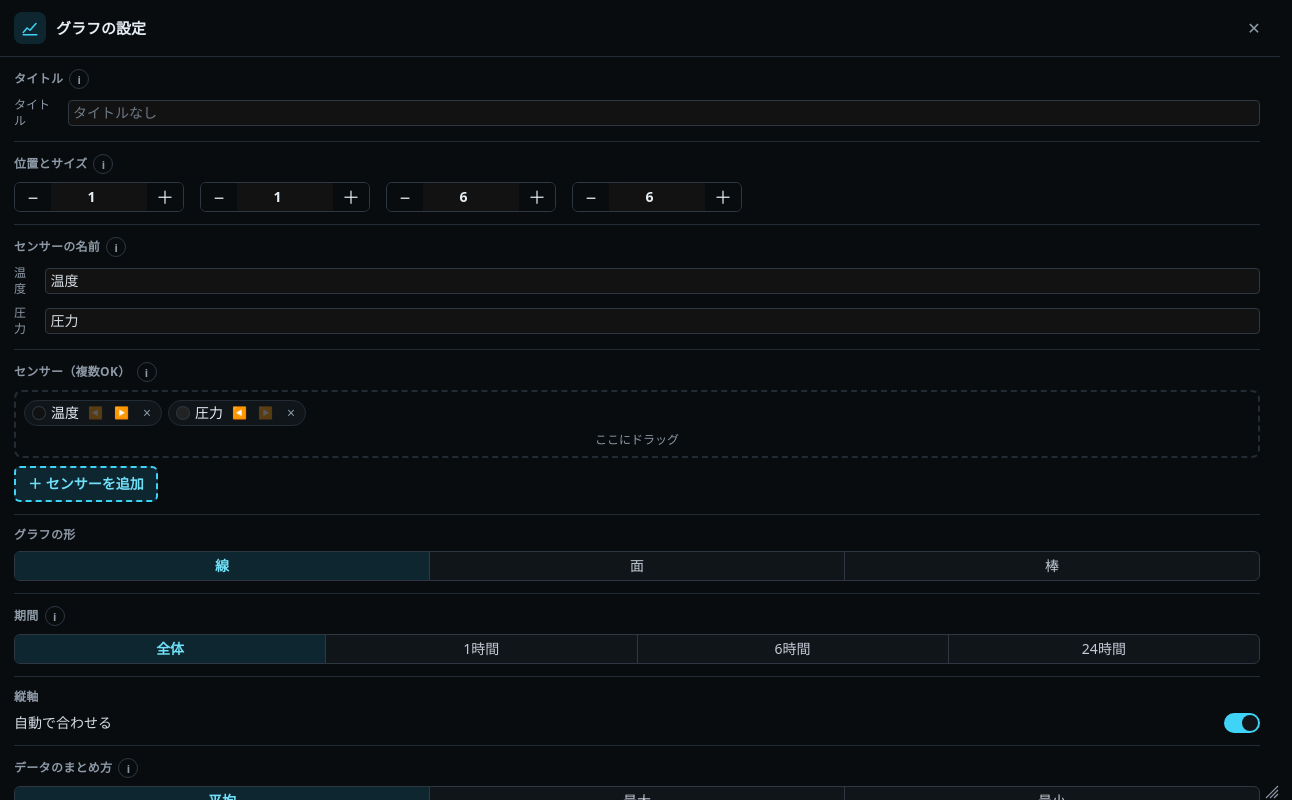
it: WidgetSettings: グラフ › Esc で閉じ、フォーカスは開いたボタンに戻る。ボタンにフォーカスがあるときの Esc でも閉じる
This screenshot has width=1292, height=800.
Click the button "＋ センサーを追加": click(86, 484) [14,466,158,502]
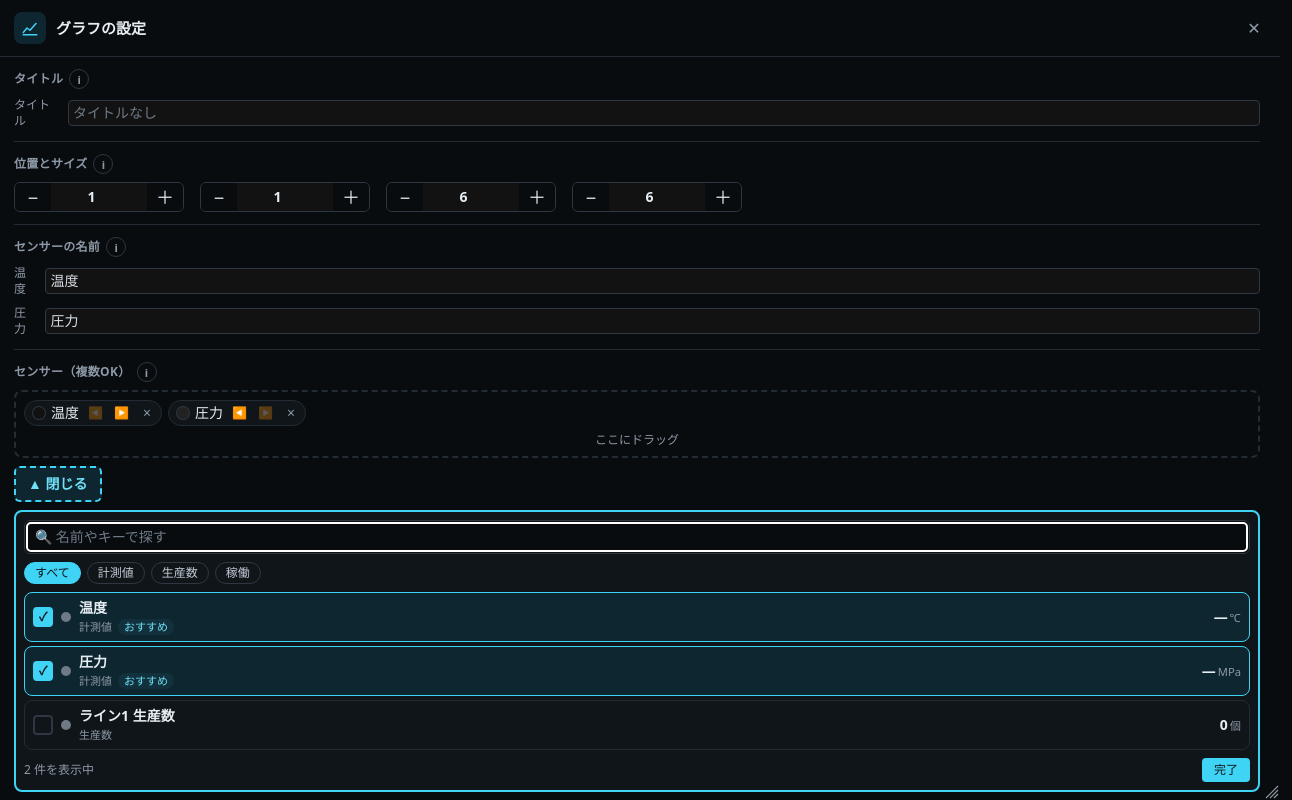
Press Escape
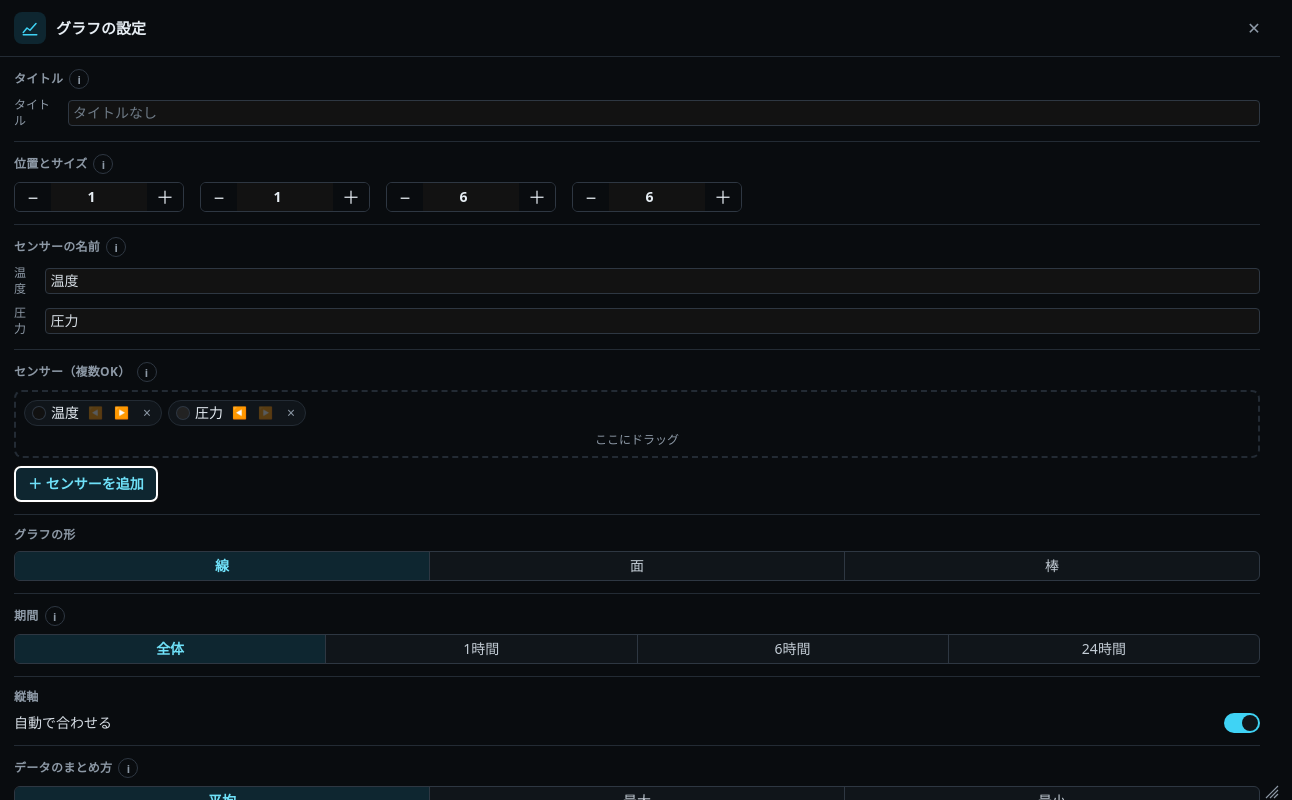
Now the element "センサーを選ぶ" is gone
Click the button "＋ センサーを追加": click(86, 484) [14,466,158,502]
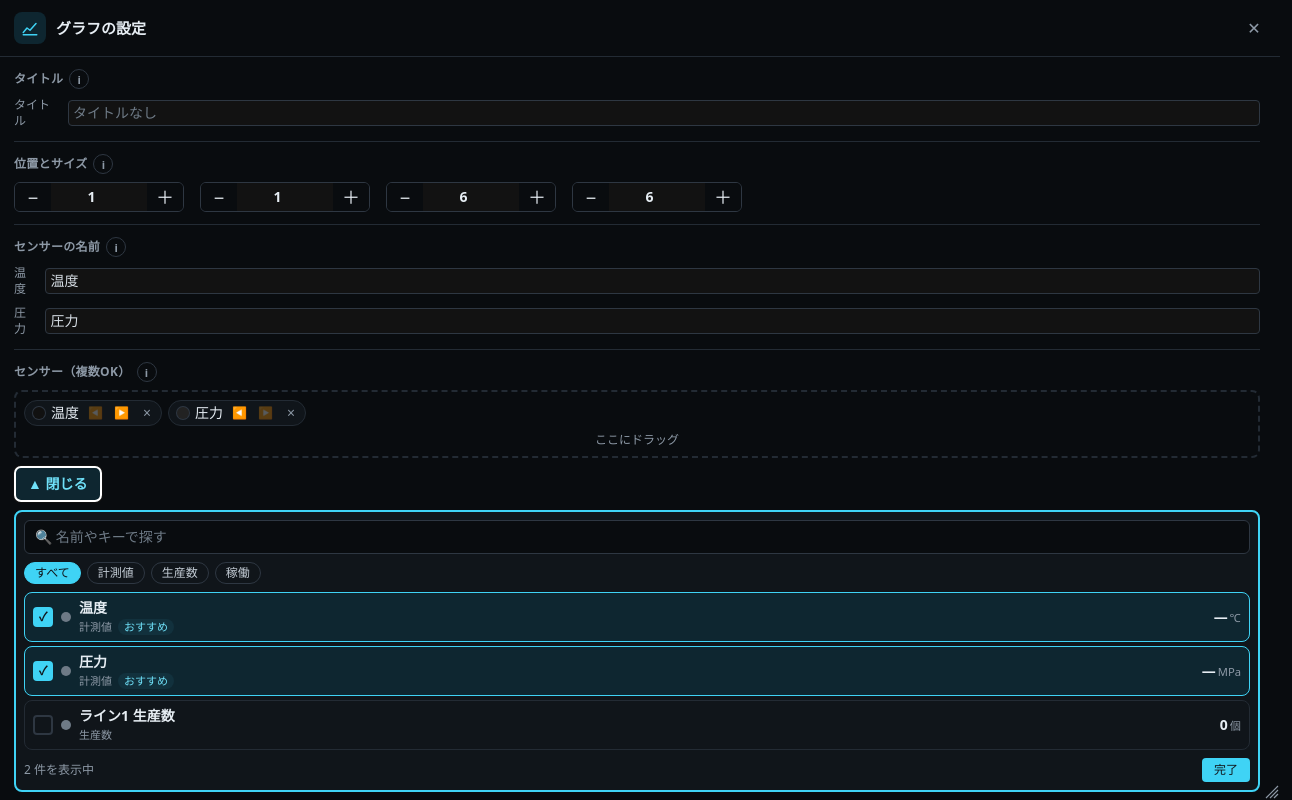
Press Escape
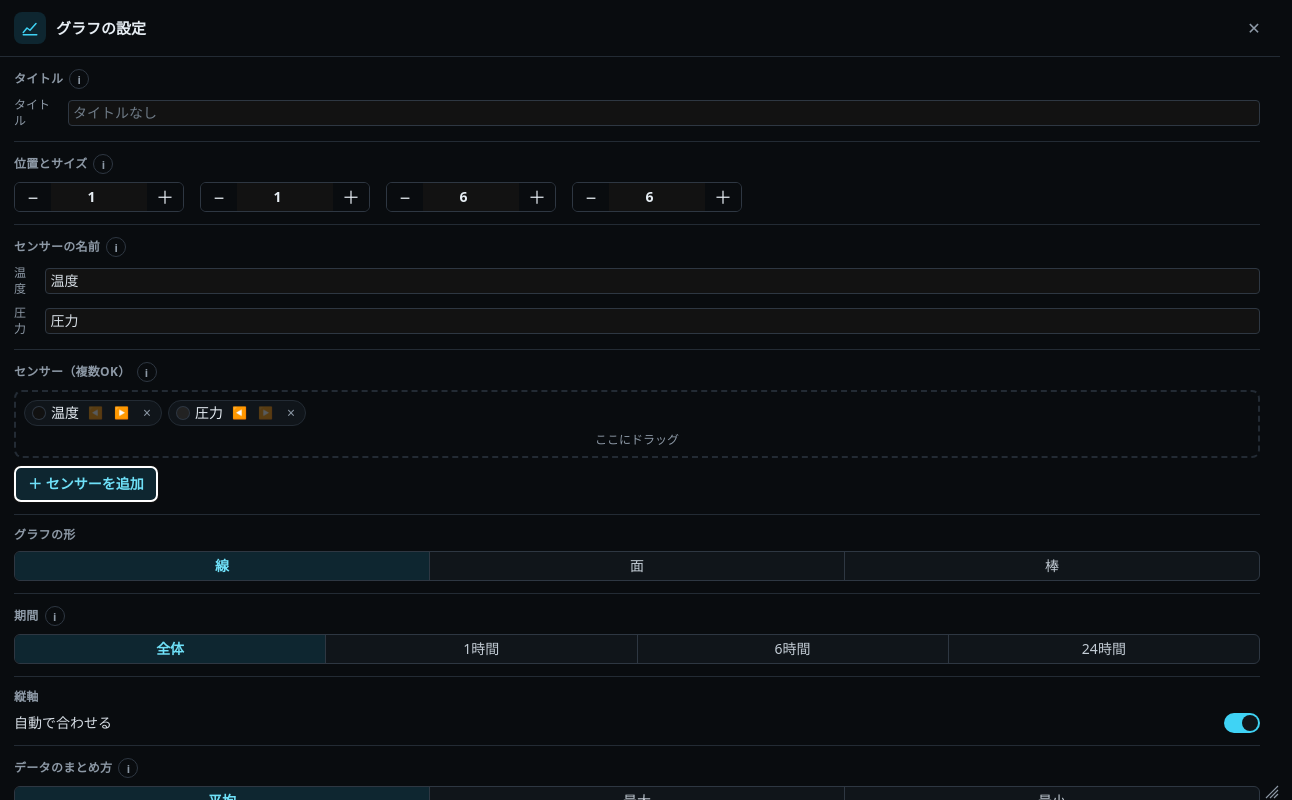
Now the element "センサーを選ぶ" is gone
